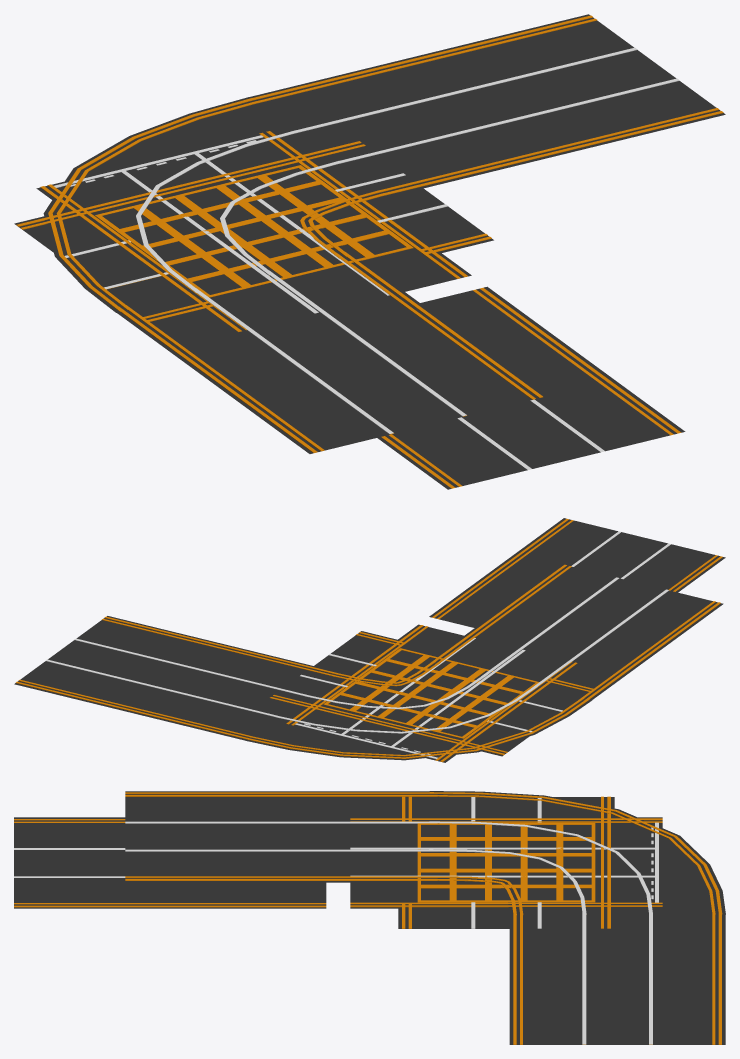
Rendered from RoadJunctionMidFix.fbx.
The picture shows the model from 3 angles, top to bottom: view 1: azimuth 30°, elevation 25°; view 2: azimuth 150°, elevation 25°; view 3: azimuth 270°, elevation 25°; orthographic projection. The views are drawn at different scales.
Visible parts, largest first — view 1: Turn, BaseRoad.002, Junction Mid, JunctionStart; view 2: Turn, BaseRoad.002, Junction Mid, JunctionStart; view 3: Turn, BaseRoad.002, Junction Mid, JunctionStart.
Boxes of the visible parts, left/top/right/bottom form: Turn: left=43, top=14, right=725, bottom=453; BaseRoad.002: left=377, top=286, right=685, bottom=489; Junction Mid: left=14, top=141, right=493, bottom=321; JunctionStart: left=36, top=131, right=471, bottom=332; Turn: left=14, top=564, right=723, bottom=760; BaseRoad.002: left=429, top=518, right=725, bottom=627; Junction Mid: left=270, top=631, right=593, bottom=756; JunctionStart: left=286, top=624, right=577, bottom=762; Turn: left=125, top=791, right=725, bottom=1044; BaseRoad.002: left=14, top=817, right=326, bottom=908; Junction Mid: left=398, top=796, right=614, bottom=928; JunctionStart: left=350, top=817, right=662, bottom=908.
Bounding box in the file's own units: 2502 × 2.93 × 2964.
